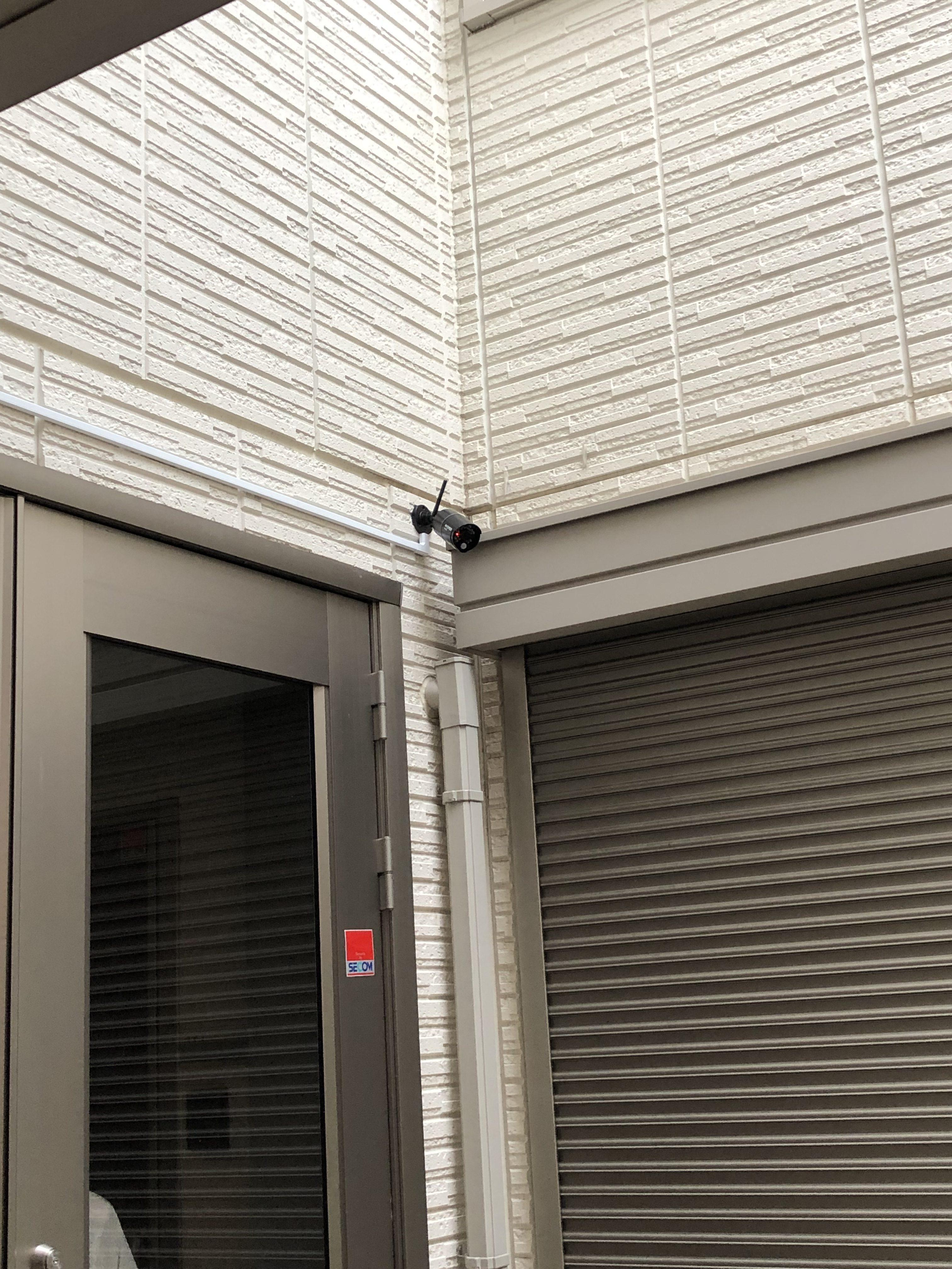tutu: (416, 491, 482, 563)
